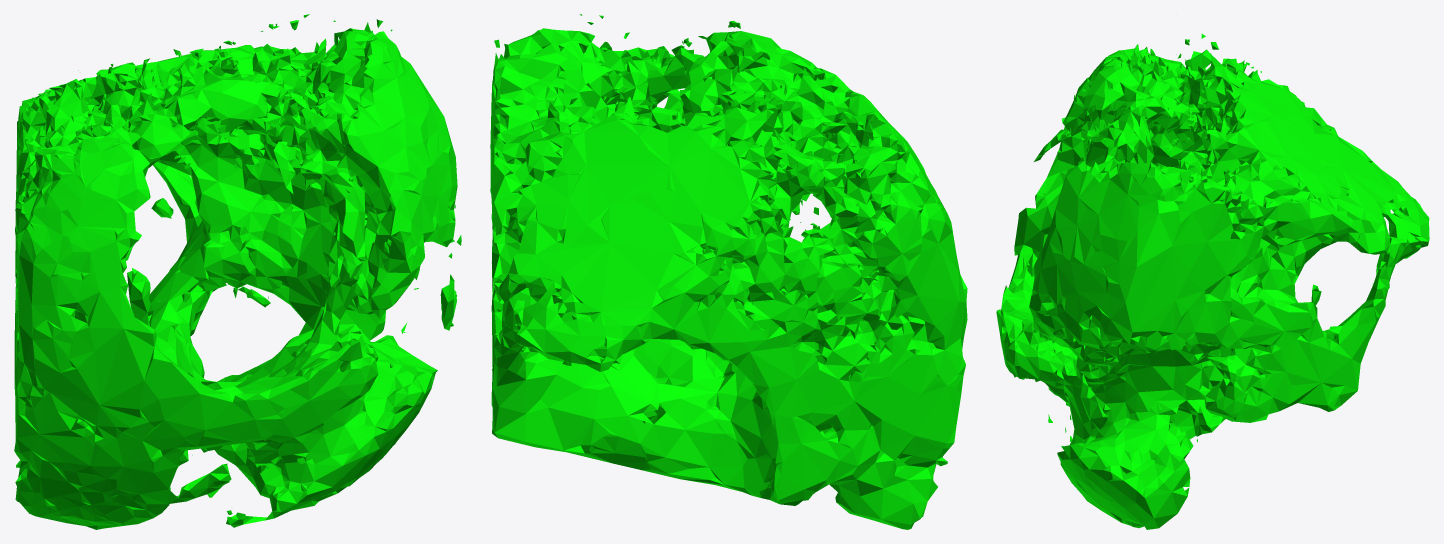
Rendered from B939XXXX-1_base_3.obj.
3 views of the same model, side by side, from view 1: azimuth 30°, elevation 25°; view 2: azimuth 150°, elevation 25°; view 3: azimuth 270°, elevation 25° (orthographic). The views are drawn at different scales.
Parts seen in each view (by area): view 1: 3_base; view 2: 3_base; view 3: 3_base.
Boxes of the visible parts, x1,y1,x2,y2 form: 3_base: [14, 14, 461, 529]; 3_base: [490, 14, 967, 529]; 3_base: [996, 34, 1429, 529].
Size of the model in its own units: 216 by 213 by 203.
